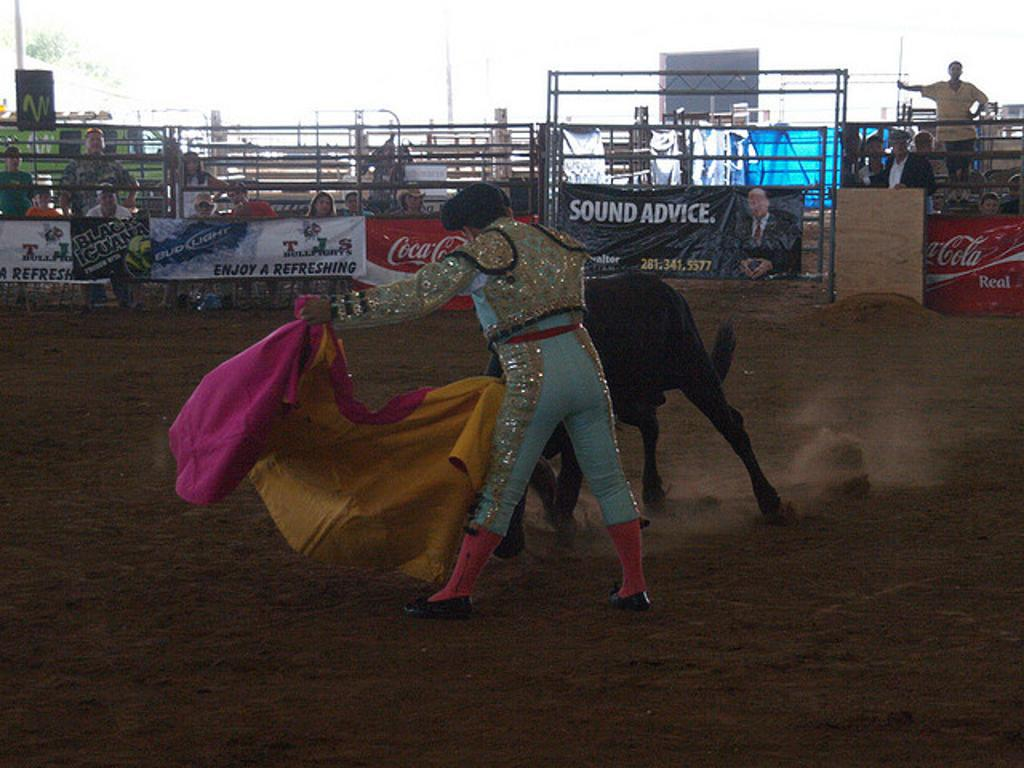face: (98, 186, 116, 209), (750, 193, 767, 216), (868, 141, 883, 163), (843, 131, 859, 151), (88, 134, 103, 153), (184, 155, 198, 175), (917, 136, 931, 155), (983, 198, 998, 215), (317, 197, 331, 214), (406, 193, 421, 208), (198, 201, 212, 217), (893, 139, 906, 155), (8, 152, 20, 169), (36, 194, 50, 207), (950, 65, 961, 79), (232, 185, 242, 200), (348, 196, 358, 209)
